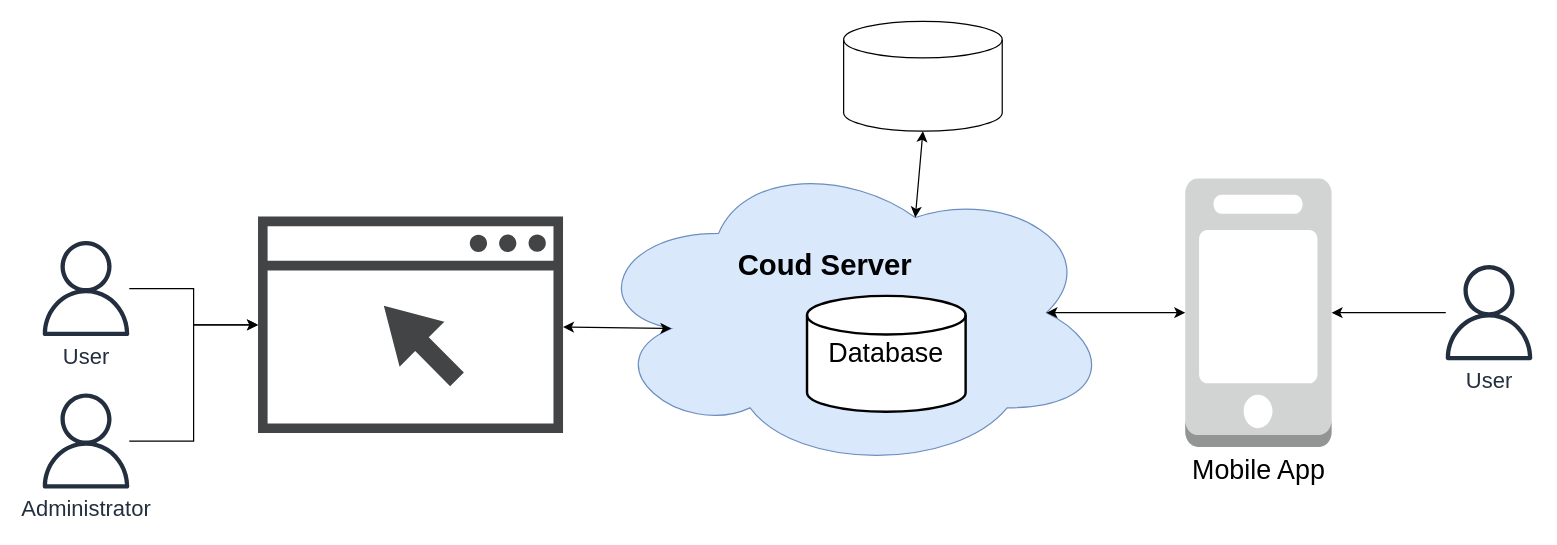
The diagram is 1557 pixels wide and 545 high, and some of its shapes have lost their labels. Here are the shapes that lost their labels. From the top down, the centre of each, then its label:
point 922,75: MIKES Database
point 409,324: Web App
